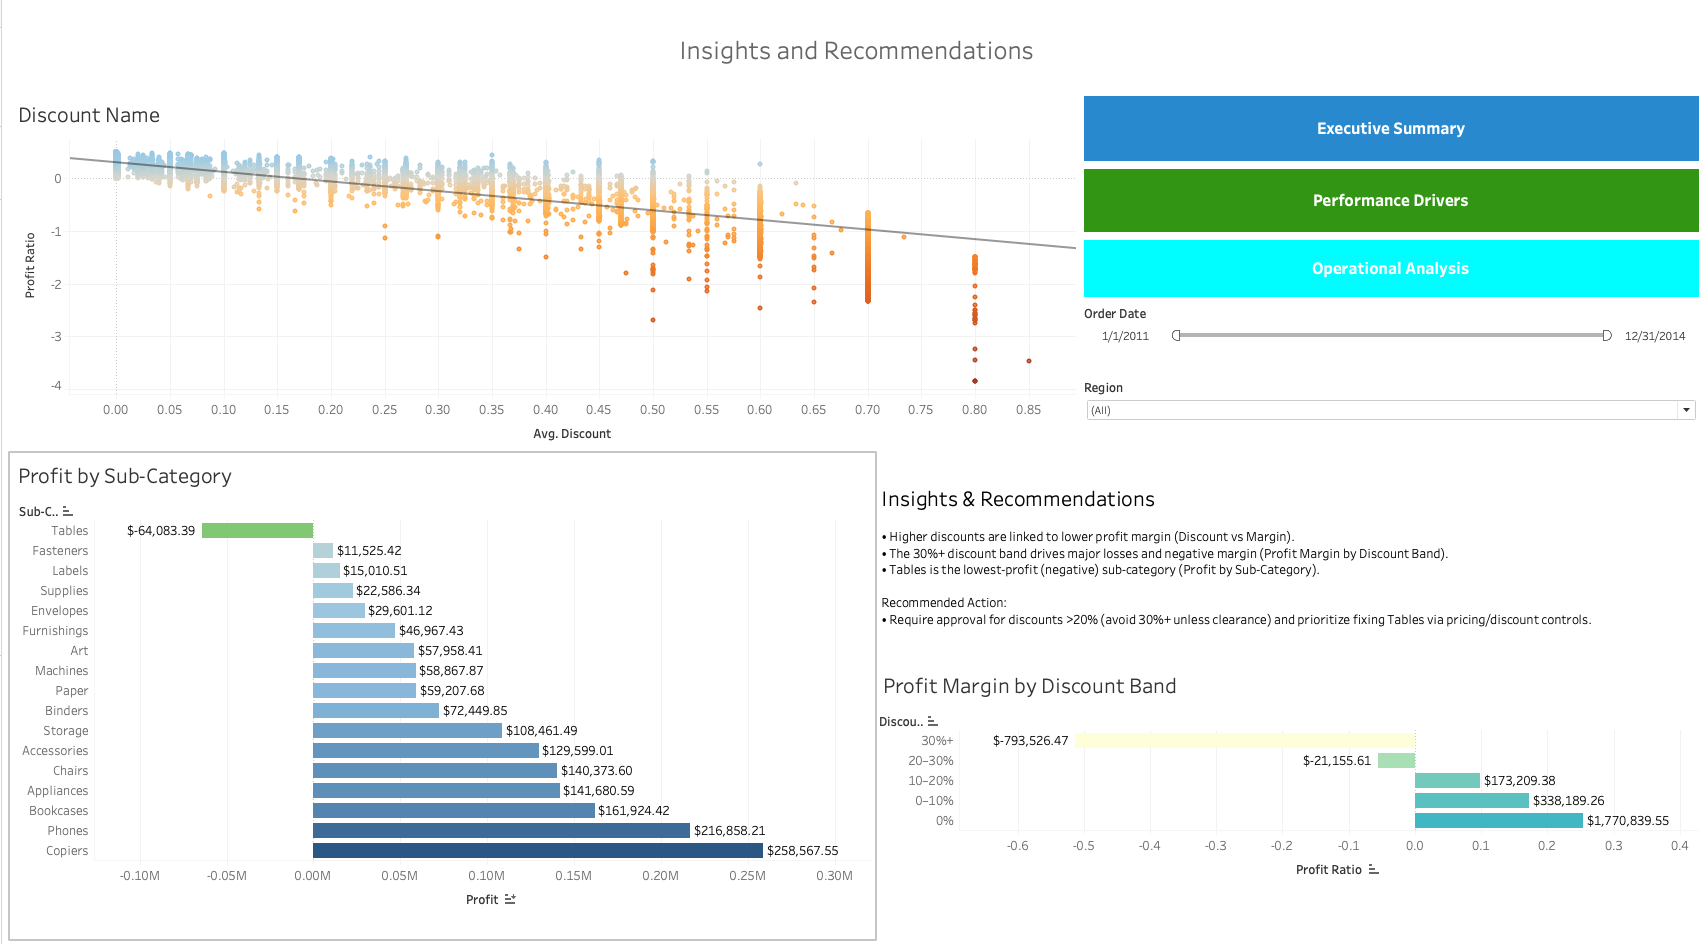

The dashboard page shown, as its layout file describes it:
{"tool":"tableau","page":{"name":"Page 4","canvas":[1000,1000],"units":"permille","ordinal":3},"visuals":[{"type":"text","box":[5.6,9.6,988.9,89.4]},{"type":"worksheet","title":"P4 1 ","mark":"Automatic","rows":["Calculation_5319806734445154306"],"cols":["Discount"],"box":[5.6,99,624.9,380.1]},{"type":"dashboard-object","box":[630.5,99,364,76.8]},{"type":"dashboard-object","box":[630.5,175.7,364,74.7]},{"type":"dashboard-object","box":[630.5,250.5,364,68.2]},{"type":"filter","title":"P4 1 ","param":"[federated.0vdm7c1130wqvm1644y8f11i72go].[none:Order Date:qk]","box":[630.5,318.6,364,78.3]},{"type":"filter","title":"P4 1 ","param":"[federated.0vdm7c1130wqvm1644y8f11i72go].[none:Region:nk]","box":[630.5,396.9,364,82.2]},{"type":"worksheet","title":"P4 2","mark":"Automatic","rows":["Sub-Category"],"cols":["Profit"],"box":[5.6,479.1,505.2,511.3]},{"type":"text","box":[510.8,479.1,483.7,220.4]},{"type":"worksheet","title":"P4 3","mark":"Automatic","rows":["Calculation_1601663031574822912"],"cols":["Calculation_5319806734445154306"],"box":[510.8,699.5,483.7,290.9]}]}

Visuals, with their boxes on the dashboard's canvas, which has no fixed pixel size, in thousandths of its width and height (x1, y1, x2, y2). These are canvas units, not pixel positions in the 1705x944 screenshot, which may show the page scaled, cropped or inside an application window:
text: bbox=(6, 10, 994, 99)
"P4 1 " worksheet: bbox=(6, 99, 630, 479)
dashboard-object: bbox=(630, 99, 994, 176)
dashboard-object: bbox=(630, 176, 994, 250)
dashboard-object: bbox=(630, 250, 994, 319)
"P4 1 " filter: bbox=(630, 319, 994, 397)
"P4 1 " filter: bbox=(630, 397, 994, 479)
"P4 2" worksheet: bbox=(6, 479, 511, 990)
text: bbox=(511, 479, 994, 700)
"P4 3" worksheet: bbox=(511, 700, 994, 990)
